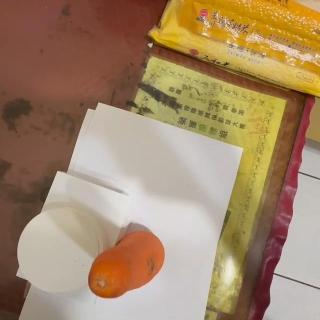carrot: (87, 230, 165, 300)
